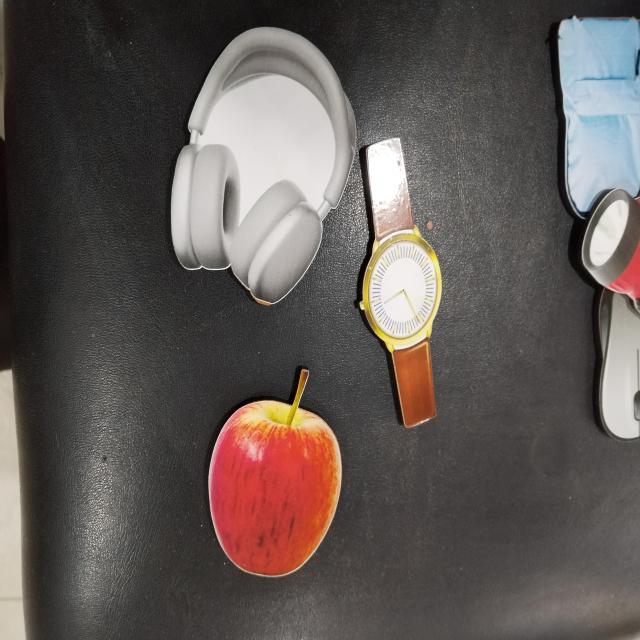Other Objects: (150, 0, 379, 331), (182, 361, 368, 606), (356, 136, 446, 429), (559, 16, 640, 216), (595, 289, 640, 441), (581, 189, 640, 300)
